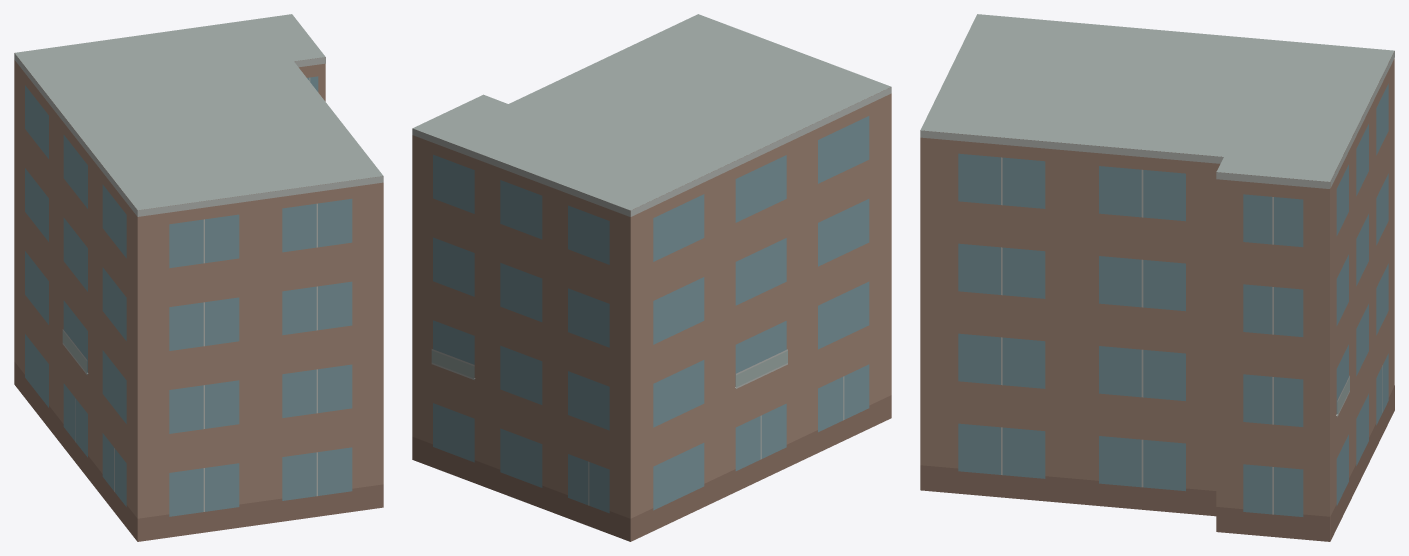
File: residential-d8b7a69d-0f57-48ba-b6b7-ced2c731a2bc.glb
The picture shows the model from 3 angles, left to right: view 1: azimuth 30°, elevation 25°; view 2: azimuth 150°, elevation 25°; view 3: azimuth 270°, elevation 25°; orthographic projection. The views are drawn at different scales.
Visible parts, largest first — view 1: residential-d8b7a69d-0f57-48ba-b6b7-ced2c731a2bc.tmp; view 2: residential-d8b7a69d-0f57-48ba-b6b7-ced2c731a2bc.tmp; view 3: residential-d8b7a69d-0f57-48ba-b6b7-ced2c731a2bc.tmp.
Part boxes in pixels (x1=…): residential-d8b7a69d-0f57-48ba-b6b7-ced2c731a2bc.tmp: x1=14, y1=14, x2=383, y2=541; residential-d8b7a69d-0f57-48ba-b6b7-ced2c731a2bc.tmp: x1=412, y1=14, x2=891, y2=541; residential-d8b7a69d-0f57-48ba-b6b7-ced2c731a2bc.tmp: x1=920, y1=14, x2=1394, y2=541.
Size of the model in its own units: 12.22 by 12.2 by 14.58.
